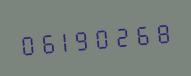eight: (150, 15, 168, 49)
nine: (74, 21, 92, 56)
one: (55, 23, 73, 57)
six: (131, 16, 149, 51), (36, 25, 54, 59)
two: (112, 18, 130, 52)
zero: (17, 26, 35, 61), (93, 20, 111, 54)
